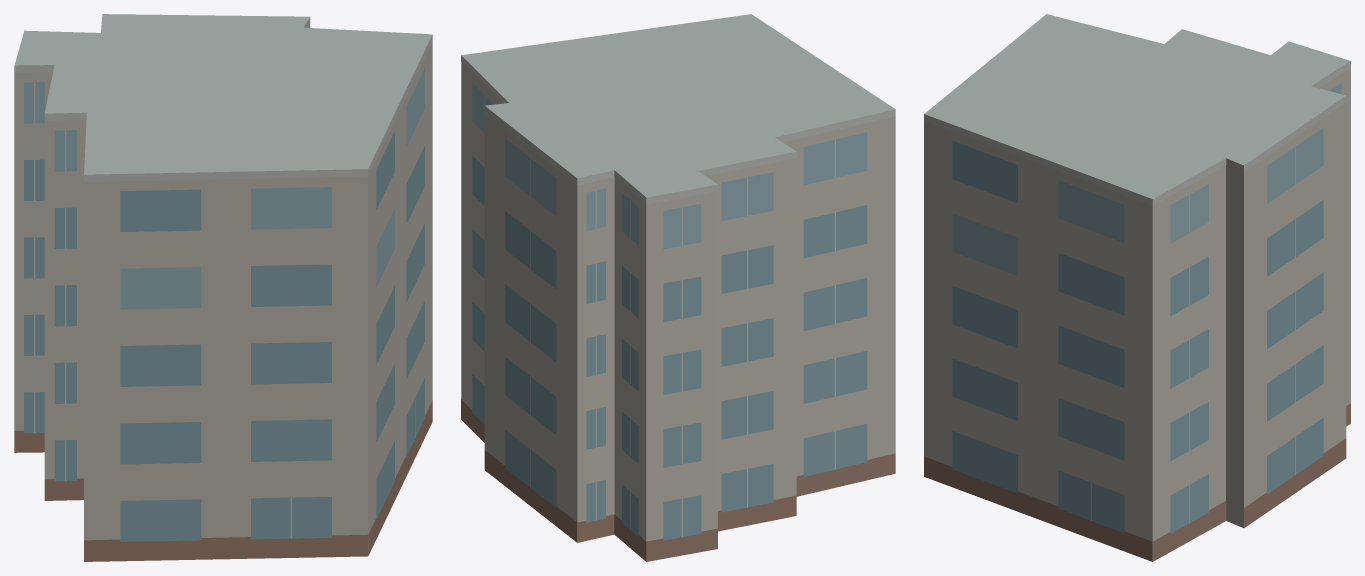
Rendered from survey-upis-33019131.glb.
The picture shows the model from 3 angles, left to right: view 1: azimuth 30°, elevation 25°; view 2: azimuth 150°, elevation 25°; view 3: azimuth 270°, elevation 25°; orthographic projection. The views are drawn at different scales.
Parts seen in each view (by area): view 1: survey-upis-33019131.tmp; view 2: survey-upis-33019131.tmp; view 3: survey-upis-33019131.tmp.
Boxes of the visible parts, left/top/right/bottom form: survey-upis-33019131.tmp: left=14, top=14, right=432, bottom=561; survey-upis-33019131.tmp: left=461, top=14, right=895, bottom=561; survey-upis-33019131.tmp: left=924, top=14, right=1350, bottom=561.
Size of the model in its own units: 14.35 by 13.1 by 13.98.
